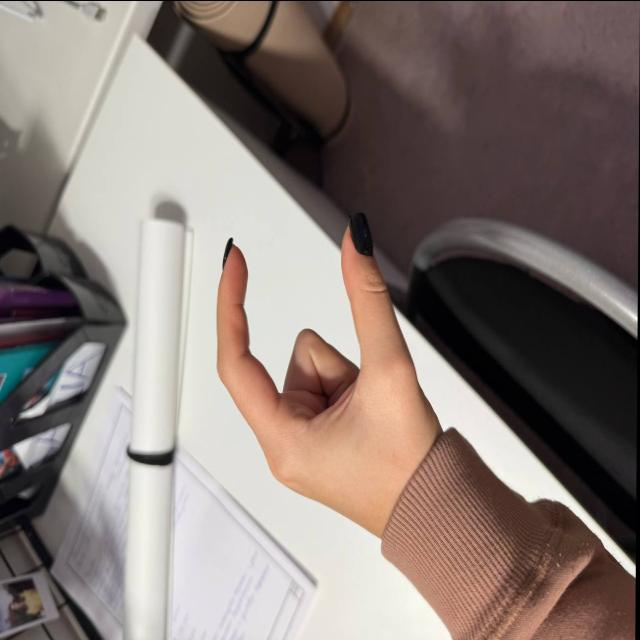uh: (199, 192, 440, 503)
